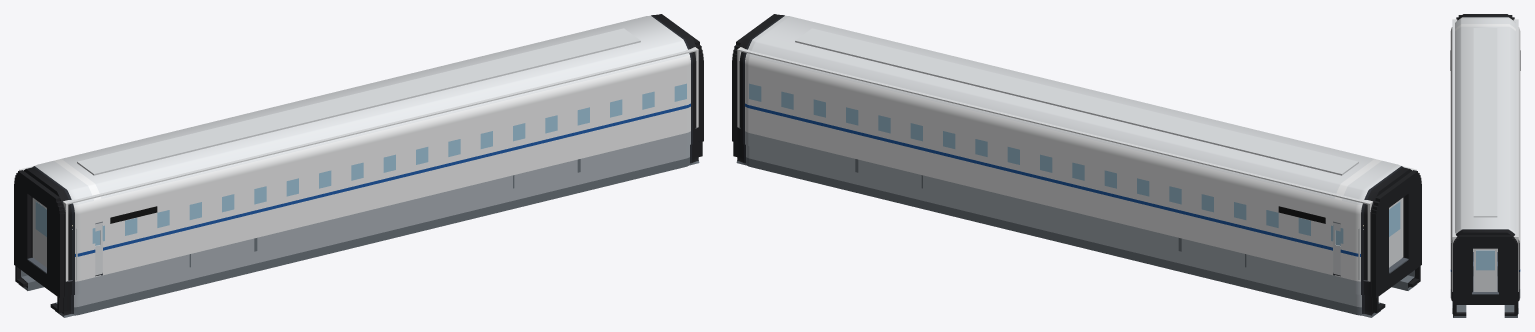
Rendered from mlx01_car.obj.
3 views of the same model, side by side, from view 1: azimuth 30°, elevation 25°; view 2: azimuth 150°, elevation 25°; view 3: azimuth 270°, elevation 25° (orthographic). The views are drawn at different scales.
Visible parts, largest first — view 1: SHELL, SHELL_roof, SHELL_diaphragm, SHELL_ceiling, CONNECTING_DOOR_1_CG_CR_TOGGLE_TL_0.98_Z, SHELL_end; view 2: SHELL, SHELL_roof, SHELL_diaphragm, SHELL_ceiling, CONNECTING_DOOR_1_CG_CR_TOGGLE_TL_0.98_Z, SHELL_end; view 3: SHELL, SHELL_roof, SHELL_diaphragm, SHELL_ceiling, CONNECTING_DOOR_2_CG_CF_TOGGLE_TL_0.98_Z, SHELL_end, SHELL_gangway.
Part boxes in pixels (left/top/right/bottom): SHELL: left=18, top=14, right=699, bottom=317; SHELL_roof: left=77, top=28, right=640, bottom=175; SHELL_diaphragm: left=14, top=14, right=703, bottom=313; SHELL_ceiling: left=21, top=47, right=696, bottom=204; CONNECTING_DOOR_1_CG_CR_TOGGLE_TL_0.98_Z: left=34, top=198, right=46, bottom=267; SHELL_end: left=19, top=47, right=698, bottom=281; SHELL: left=736, top=14, right=1417, bottom=317; SHELL_roof: left=795, top=28, right=1358, bottom=175; SHELL_diaphragm: left=732, top=14, right=1421, bottom=313; SHELL_ceiling: left=739, top=47, right=1414, bottom=204; CONNECTING_DOOR_1_CG_CR_TOGGLE_TL_0.98_Z: left=1389, top=198, right=1401, bottom=267; SHELL_end: left=737, top=47, right=1416, bottom=281; SHELL: left=1450, top=14, right=1520, bottom=317; SHELL_roof: left=1473, top=28, right=1497, bottom=217; SHELL_diaphragm: left=1453, top=15, right=1517, bottom=315; SHELL_ceiling: left=1452, top=19, right=1518, bottom=236; CONNECTING_DOOR_2_CG_CF_TOGGLE_TL_0.98_Z: left=1473, top=248, right=1497, bottom=291; SHELL_end: left=1452, top=19, right=1518, bottom=291; SHELL_gangway: left=1472, top=291, right=1498, bottom=294.
Bounding box in the file's own units: 21.92 × 3.98 × 2.92.
Materials: 1 (1 with a texture image).
